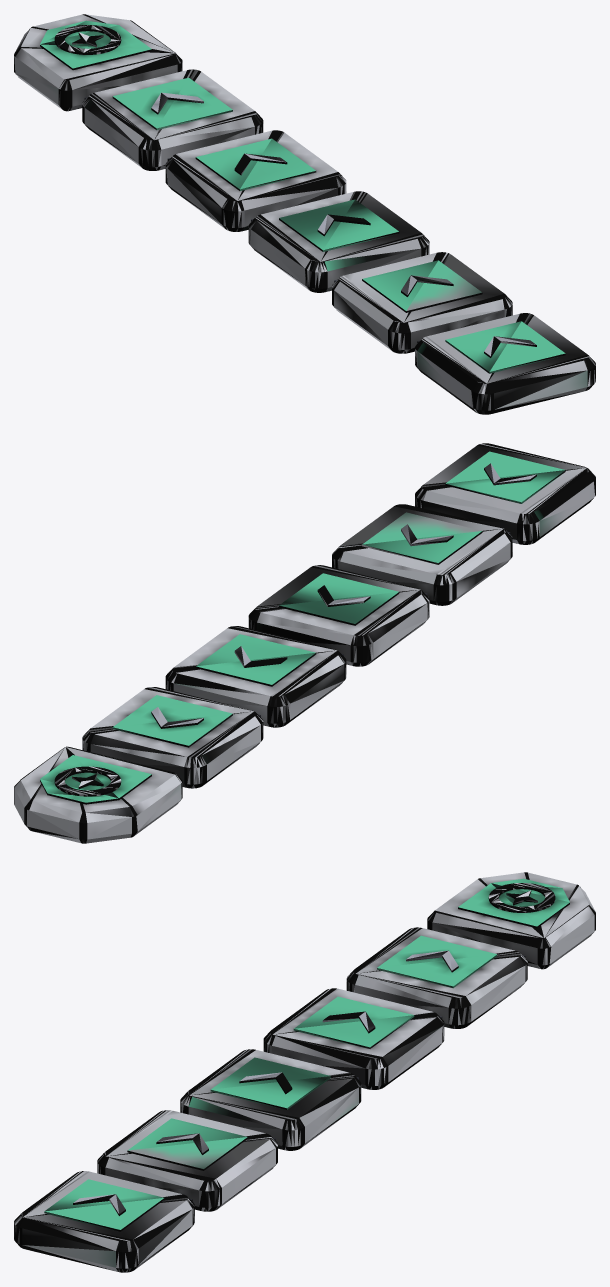
Rendered from FinalLane6_Esmeralda.glb.
The picture shows the model from 3 angles, top to bottom: view 1: azimuth 30°, elevation 25°; view 2: azimuth 150°, elevation 25°; view 3: azimuth 330°, elevation 25°; orthographic projection.
Parts seen in each view (by area): view 1: Tile_1_Body, Tile_3_Body, Tile_5_Body, Tile_4_Body, Tile_2_Body, Tile_6_Body, Tile_1_TeamInset, Tile_2_TeamInset, Tile_4_TeamInset, Tile_5_TeamInset, Tile_3_TeamInset, Tile_6_TeamInset (+1 smaller); view 2: Tile_6_Body, Tile_4_Body, Tile_3_Body, Tile_1_Body, Tile_2_Body, Tile_5_Body, Tile_4_TeamInset, Tile_2_TeamInset, Tile_3_TeamInset, Tile_5_TeamInset, Tile_1_TeamInset, Tile_6_TeamInset (+1 smaller); view 3: Tile_1_Body, Tile_3_Body, Tile_5_Body, Tile_4_Body, Tile_2_Body, Tile_6_Body, Tile_1_TeamInset, Tile_2_TeamInset, Tile_4_TeamInset, Tile_5_TeamInset, Tile_3_TeamInset, Tile_6_TeamInset (+1 smaller).
Part boxes in pixels (left/top/right/bottom): Tile_1_Body: left=415, top=313, right=595, bottom=414; Tile_3_Body: left=248, top=191, right=429, bottom=292; Tile_5_Body: left=82, top=69, right=263, bottom=170; Tile_4_Body: left=165, top=130, right=346, bottom=231; Tile_2_Body: left=332, top=252, right=512, bottom=353; Tile_6_Body: left=14, top=14, right=182, bottom=111; Tile_1_TeamInset: left=445, top=321, right=565, bottom=373; Tile_2_TeamInset: left=362, top=260, right=482, bottom=312; Tile_4_TeamInset: left=195, top=138, right=316, bottom=190; Tile_5_TeamInset: left=112, top=77, right=232, bottom=130; Tile_3_TeamInset: left=279, top=199, right=399, bottom=251; Tile_6_TeamInset: left=40, top=20, right=151, bottom=70; Tile_6_Body: left=14, top=746, right=182, bottom=843; Tile_4_Body: left=165, top=626, right=346, bottom=727; Tile_3_Body: left=248, top=565, right=429, bottom=666; Tile_1_Body: left=415, top=443, right=595, bottom=544; Tile_2_Body: left=332, top=504, right=512, bottom=605; Tile_5_Body: left=82, top=687, right=263, bottom=788; Tile_4_TeamInset: left=195, top=634, right=316, bottom=686; Tile_2_TeamInset: left=362, top=512, right=482, bottom=564; Tile_3_TeamInset: left=279, top=573, right=399, bottom=625; Tile_5_TeamInset: left=112, top=695, right=232, bottom=747; Tile_1_TeamInset: left=445, top=451, right=565, bottom=503; Tile_6_TeamInset: left=40, top=755, right=151, bottom=804; Tile_1_Body: left=14, top=1171, right=194, bottom=1272; Tile_3_Body: left=180, top=1049, right=361, bottom=1150; Tile_5_Body: left=346, top=927, right=527, bottom=1028; Tile_4_Body: left=263, top=988, right=444, bottom=1089; Tile_2_Body: left=97, top=1110, right=277, bottom=1211; Tile_6_Body: left=427, top=872, right=595, bottom=969; Tile_1_TeamInset: left=44, top=1179, right=164, bottom=1231; Tile_2_TeamInset: left=127, top=1118, right=247, bottom=1170; Tile_4_TeamInset: left=293, top=996, right=414, bottom=1048; Tile_5_TeamInset: left=377, top=935, right=497, bottom=988; Tile_3_TeamInset: left=210, top=1057, right=330, bottom=1109; Tile_6_TeamInset: left=458, top=878, right=569, bottom=928.
Bounding box in the file's own units: 0.85 × 0.225 × 5.85.
Materials: 5 (5 with a texture image).
